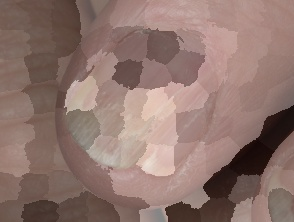Nail_psoriasis: (63, 89, 194, 180)
